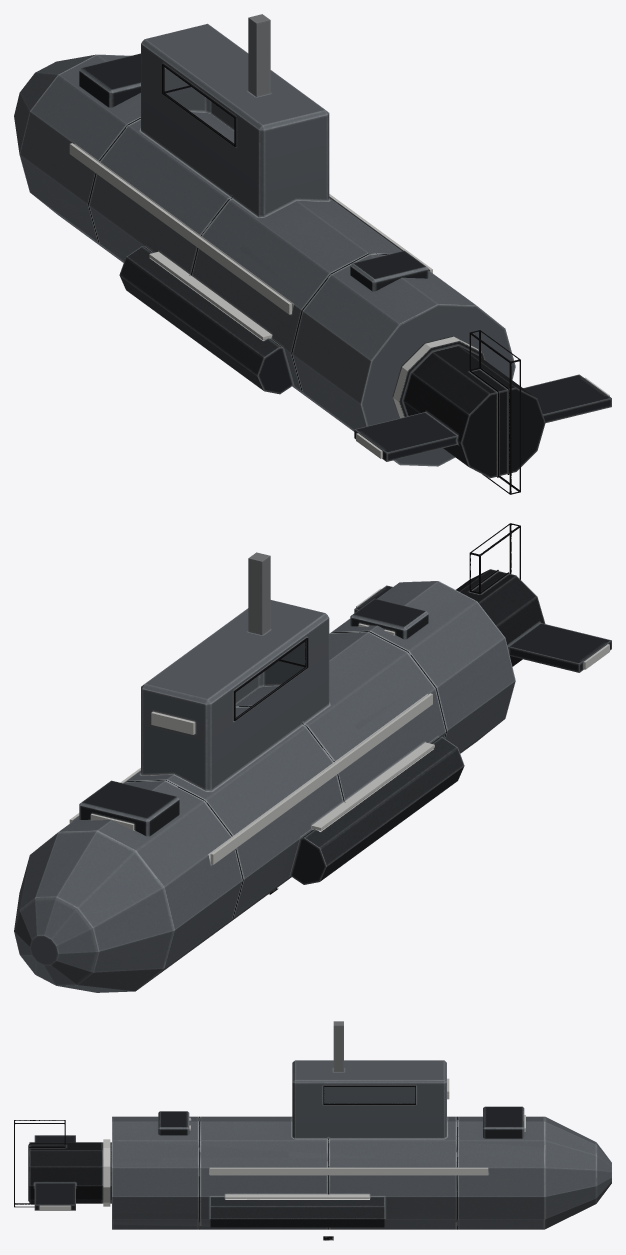
The model's file is chs_lamprey.fbx.
The picture shows the model from 3 angles, top to bottom: view 1: azimuth 30°, elevation 25°; view 2: azimuth 150°, elevation 25°; view 3: azimuth 270°, elevation 25°; orthographic projection. The views are drawn at different scales.
Visible parts, largest first — view 1: base_bar, base_glow_running_bar, turret1_bar, turret2_bar; view 2: base_bar, base_glow_running_bar, turret1_bar, turret2_bar; view 3: base_bar, base_glow_running_bar, turret1_bar, turret2_bar.
Boxes of the visible parts, <box> form: base_bar: <box>14,14,611,494</box>; base_glow_running_bar: <box>69,143,609,458</box>; turret1_bar: <box>79,53,140,107</box>; turret2_bar: <box>350,250,428,291</box>; base_bar: <box>14,523,611,992</box>; base_glow_running_bar: <box>69,588,609,864</box>; turret1_bar: <box>79,780,179,836</box>; turret2_bar: <box>350,598,428,639</box>; base_bar: <box>14,1021,611,1229</box>; base_glow_running_bar: <box>39,1078,488,1210</box>; turret1_bar: <box>483,1106,524,1138</box>; turret2_bar: <box>158,1111,189,1135</box>.
Size of the model in its own units: 326 by 460 by 1160.
2 materials, 2 textured.
